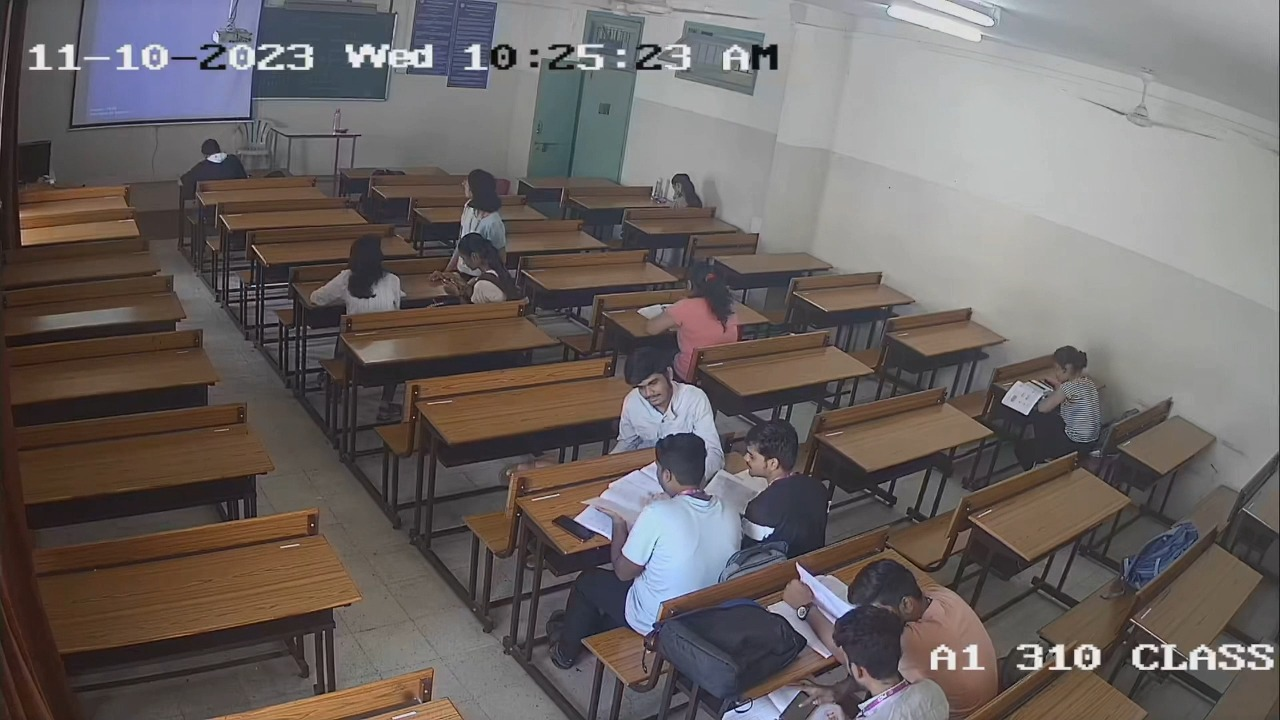cell-phones: (772, 687, 821, 720), (551, 513, 596, 545)
person: (593, 432, 742, 596), (832, 605, 945, 717)
